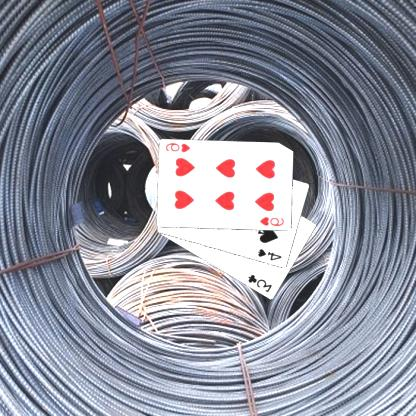3C: (247, 272, 275, 294)
4S: (256, 246, 284, 262)
6H: (259, 214, 288, 228), (165, 140, 193, 154)
